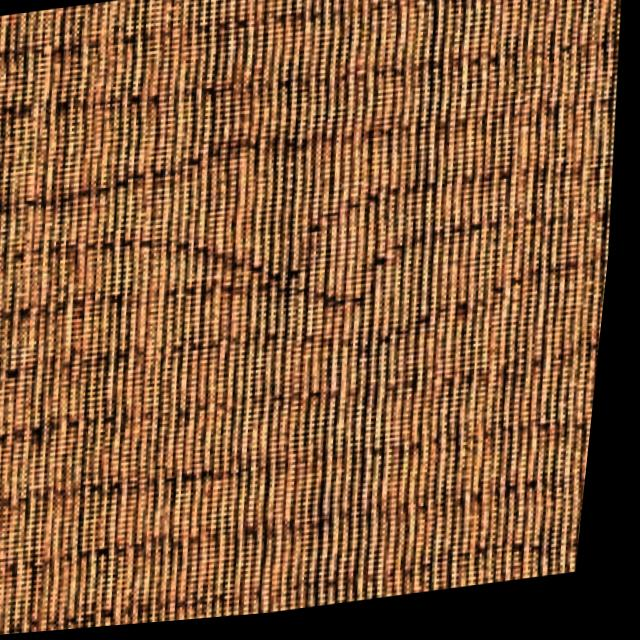Stitch: (106, 167, 443, 398)
